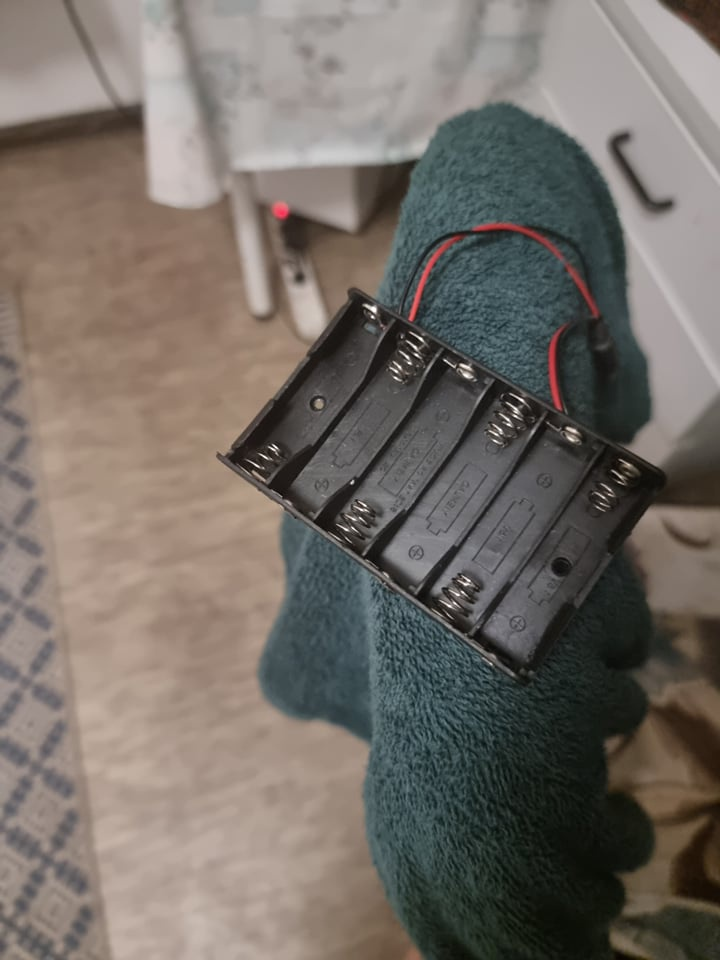BATTERY BOX: (214, 290, 665, 694)
